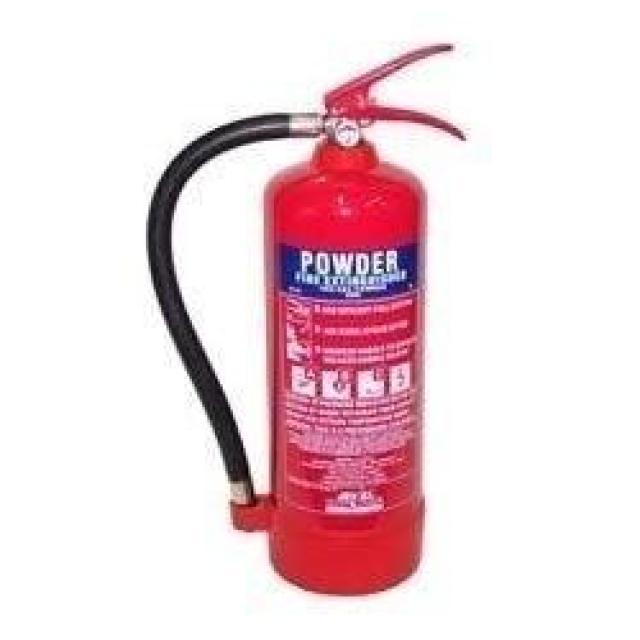fire_extinguisher: (136, 36, 468, 602)
